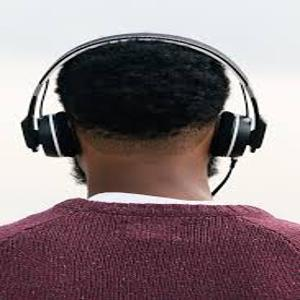Headphones: (20, 30, 268, 161)
